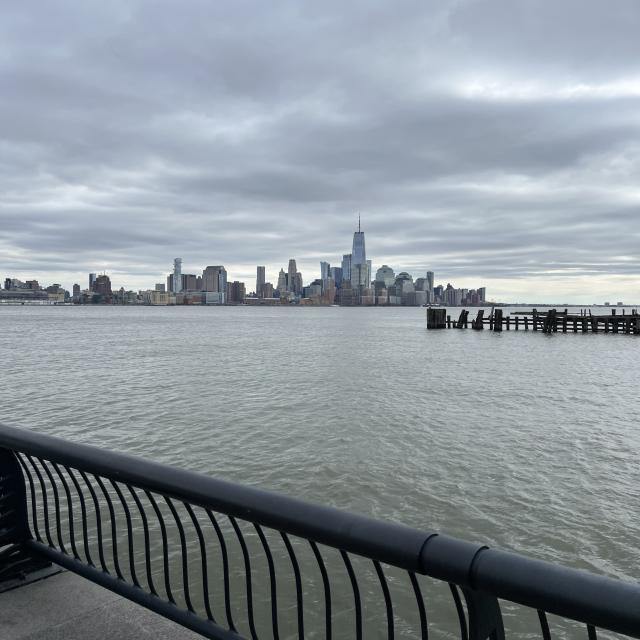WTC: (350, 210, 367, 265)
